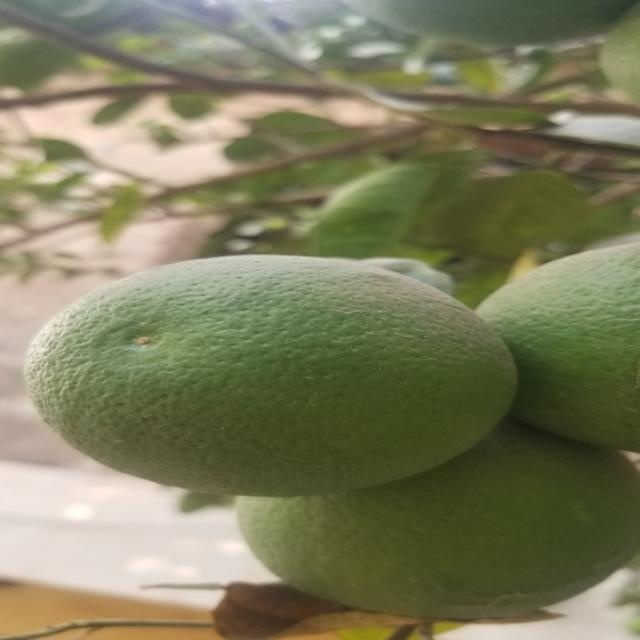agrume: (32, 257, 512, 495), (235, 433, 627, 603), (476, 249, 640, 452)
